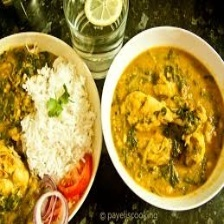sabzi: (109, 44, 224, 199)
